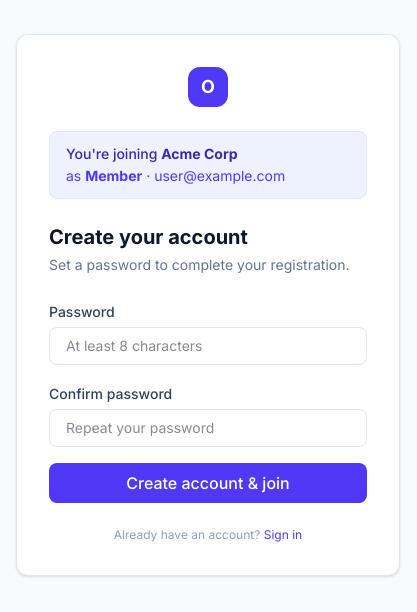
Scenario: AcceptInvitePage › shows error when passwords do not match
Step 1. Type "password123" into the password field labelled "Password" → (208, 346), box [49,327,367,365]
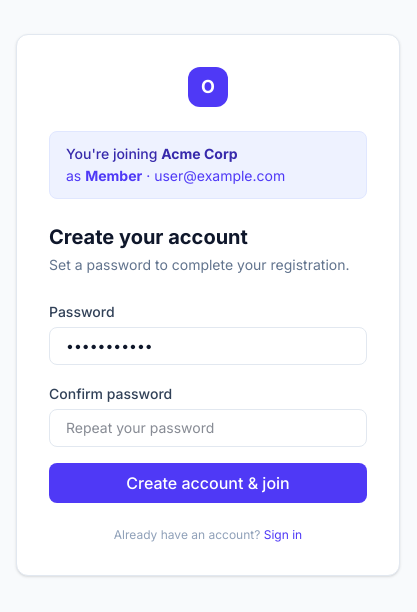
Step 2. Type "different456" into the password field labelled "Confirm password" → (208, 428), box [49,409,367,447]
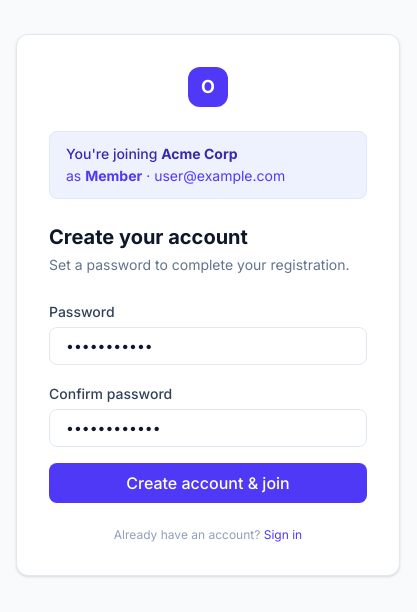
Step 3. Click the button "Create account & join" → (208, 483), box [49,463,367,503]
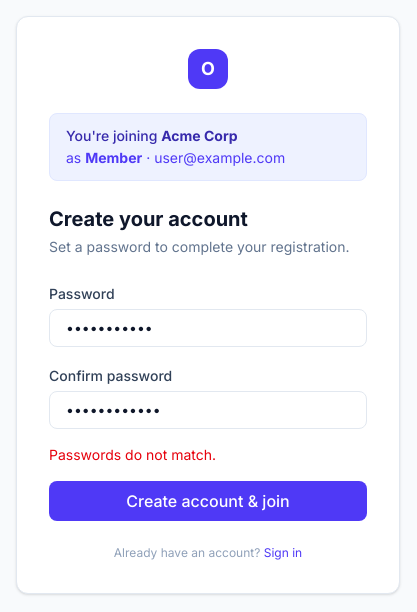
Now the message reads "Passwords do not match.", box [49,446,216,463]
